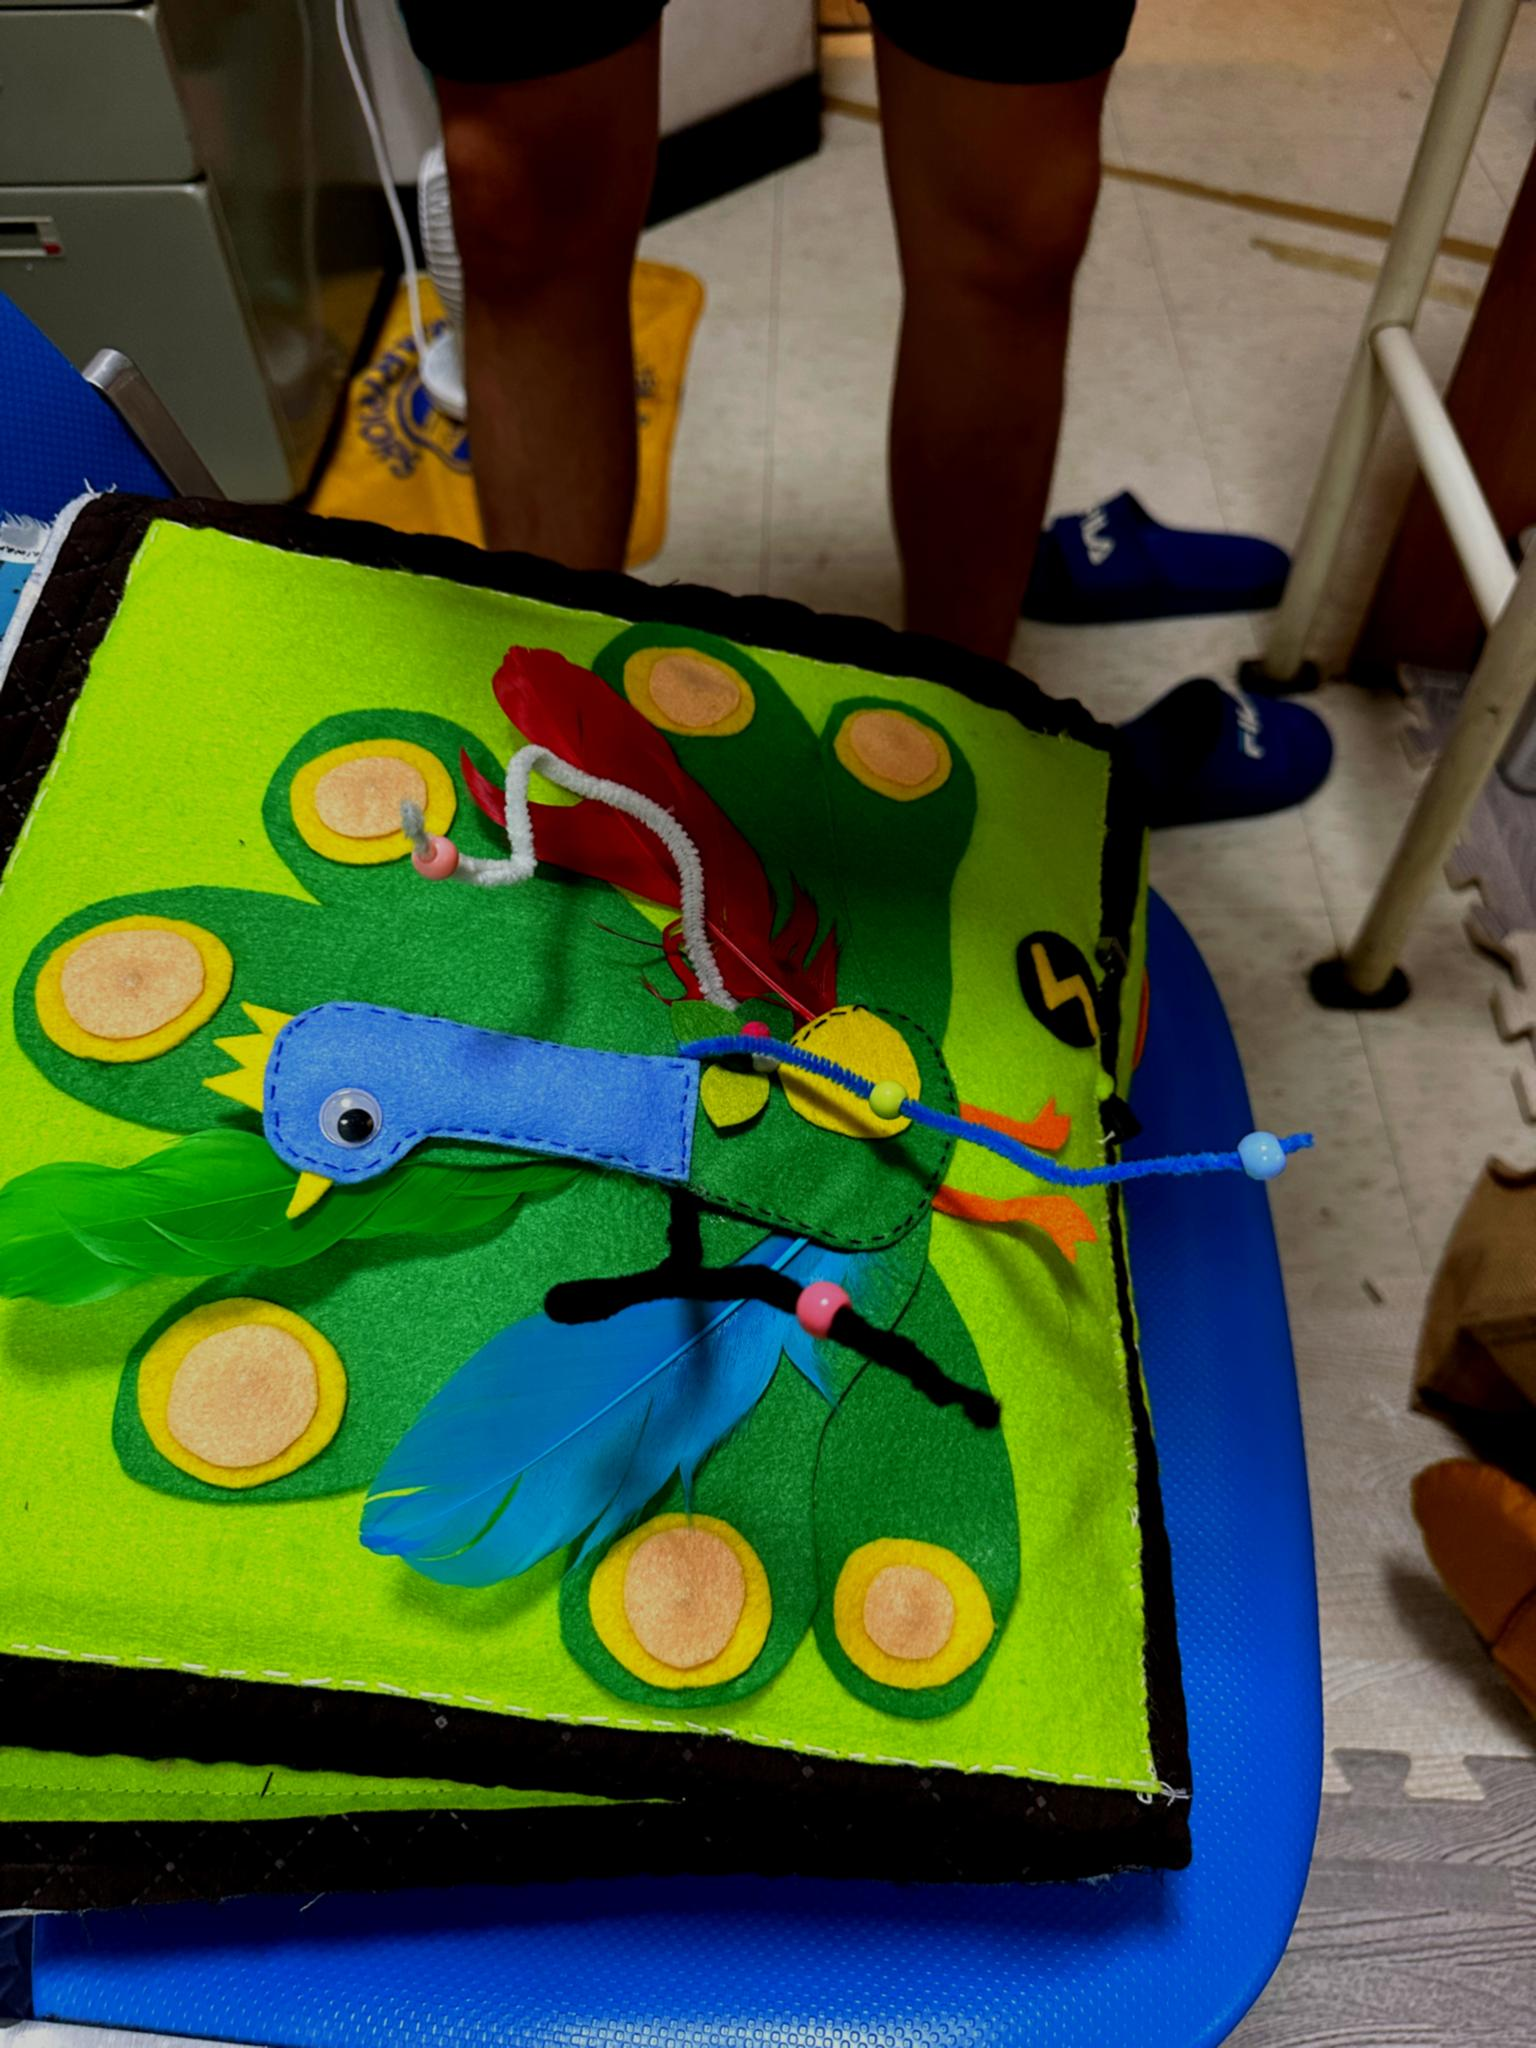bead: (797, 1247, 884, 1376), (386, 805, 468, 897), (1229, 1109, 1300, 1209), (865, 1050, 925, 1151)
